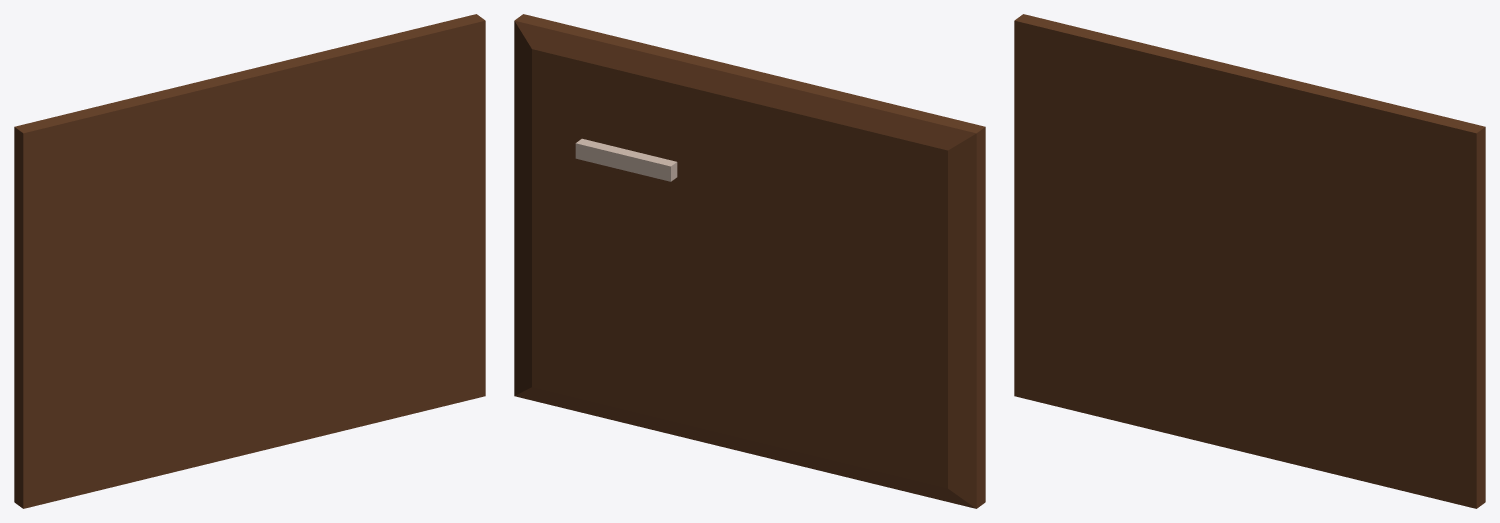
Rendered from Large Dresser Right Bot Drawer.fbx.
The picture shows the model from 3 angles, left to right: view 1: azimuth 30°, elevation 25°; view 2: azimuth 150°, elevation 25°; view 3: azimuth 330°, elevation 25°; orthographic projection.
Parts seen in each view (by area): view 1: Dresser Big.006; view 2: Dresser Big.006; view 3: Dresser Big.006.
Boxes of the visible parts, bbox=[...] form: Dresser Big.006: bbox=[14, 14, 485, 508]; Dresser Big.006: bbox=[514, 14, 985, 508]; Dresser Big.006: bbox=[1014, 14, 1485, 508].
Bounding box in the file's own units: 355 × 276 × 27.8.
